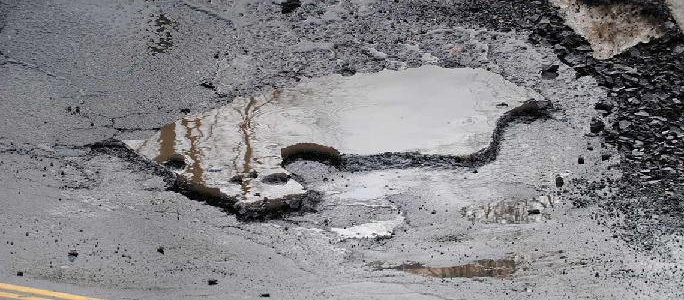pothole: (86, 62, 553, 227), (384, 255, 516, 282), (330, 211, 408, 244)
